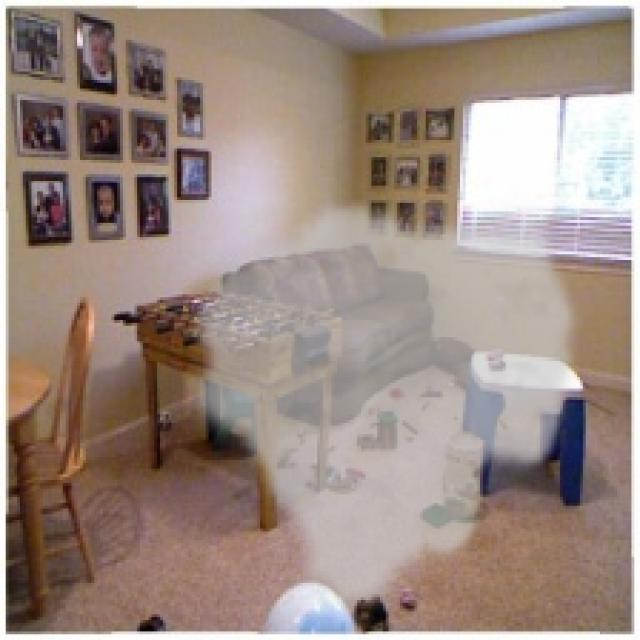Smoke: (180, 197, 583, 620)
